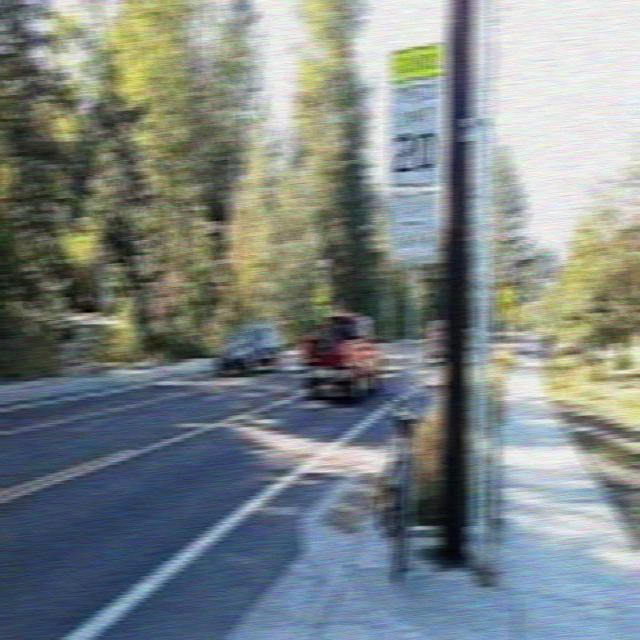speedLimit20: (389, 76, 438, 183)
